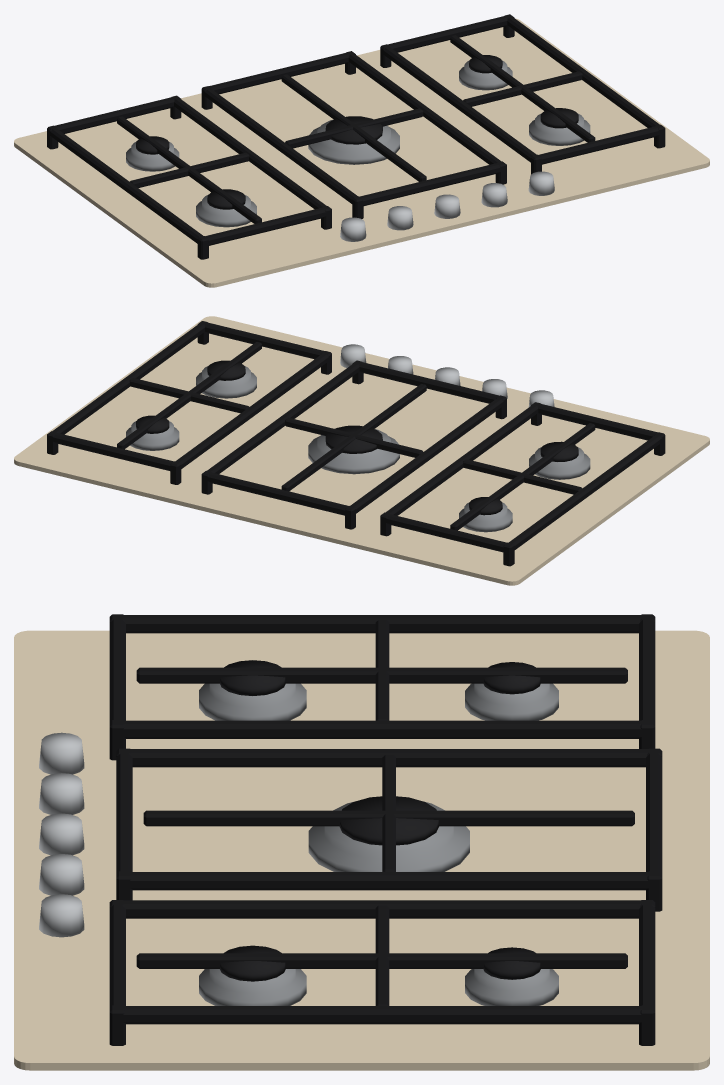
Rendered from a_hob_gas5g_3.glb.
3 views of the same model, one above another, from view 1: azimuth 30°, elevation 25°; view 2: azimuth 150°, elevation 25°; view 3: azimuth 270°, elevation 25° (orthographic). The views are drawn at different scales.
Parts seen in each view (by area): view 1: o, o.031, o.005, o.019, o.033, o.007, o.021, o.029, o.032, o.034, o.035, o.023 (+20 smaller); view 2: o, o.005, o.019, o.031, o.007, o.033, o.029, o.021, o.034, o.032, o.035, o.009 (+16 smaller); view 3: o, o.033, o.007, o.021, o.005, o.019, o.031, o.035, o.009, o.023, o.029, o.003 (+22 smaller).
Boxes of the visible parts, box(x1,y1,x2,y2) form: o: box(14, 18, 709, 287); o.031: box(202, 86, 362, 206); o.005: box(49, 126, 207, 245); o.019: box(383, 45, 539, 162); o.033: box(348, 52, 505, 171); o.007: box(173, 96, 330, 214); o.021: box(506, 14, 662, 127); o.029: box(308, 119, 399, 164); o.032: box(354, 162, 504, 205); o.034: box(206, 52, 352, 94); o.035: box(281, 74, 426, 181); o.023: box(450, 35, 595, 142); o: box(14, 316, 709, 585); o.005: box(505, 432, 664, 552); o.019: box(171, 351, 330, 471); o.031: box(346, 396, 503, 515); o.007: box(381, 402, 539, 522); o.033: box(202, 361, 359, 480); o.029: box(308, 428, 399, 474); o.021: box(52, 321, 205, 434); o.034: box(203, 471, 353, 515); o.032: box(355, 361, 503, 403); o.035: box(281, 384, 426, 491); o.009: box(450, 423, 595, 530); o: box(14, 630, 709, 1070); o.033: box(120, 872, 657, 890); o.007: box(113, 720, 651, 738); o.021: box(113, 1006, 651, 1024); o.005: box(113, 615, 651, 633); o.019: box(113, 900, 650, 918); o.031: box(121, 749, 653, 767); o.035: box(143, 810, 634, 826); o.009: box(136, 667, 627, 683); o.023: box(136, 953, 627, 968); o.029: box(308, 802, 469, 871); o.003: box(199, 683, 306, 720).
Bounding box in the file's own units: 0.75 × 0.034 × 0.51.
